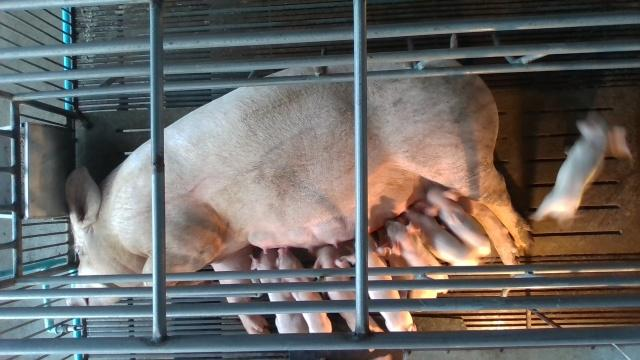piglet: (531, 109, 633, 223), (312, 242, 384, 352), (342, 233, 418, 332), (418, 184, 492, 255), (275, 246, 332, 333), (248, 249, 306, 333), (385, 218, 450, 292), (404, 203, 478, 266)
sow-sleep-lactate: (66, 63, 526, 334)
